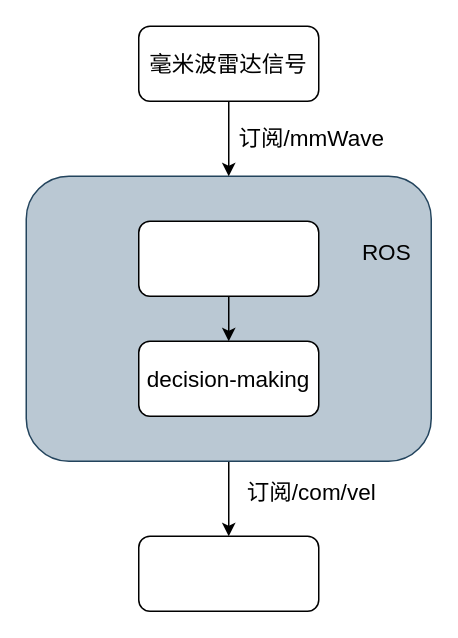
This 458x638 diagram has some shape labels left out. The shapes that lost their labels are listed below. From the top down, each one's centre as x and y in pixels, then its label:
point (228, 258): encoder
point (228, 573): UGV
